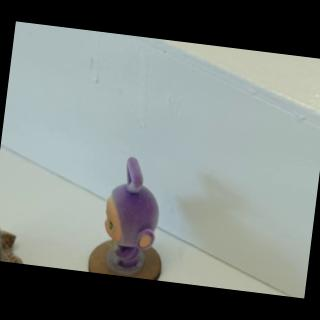teletubby: (105, 157, 159, 272)
